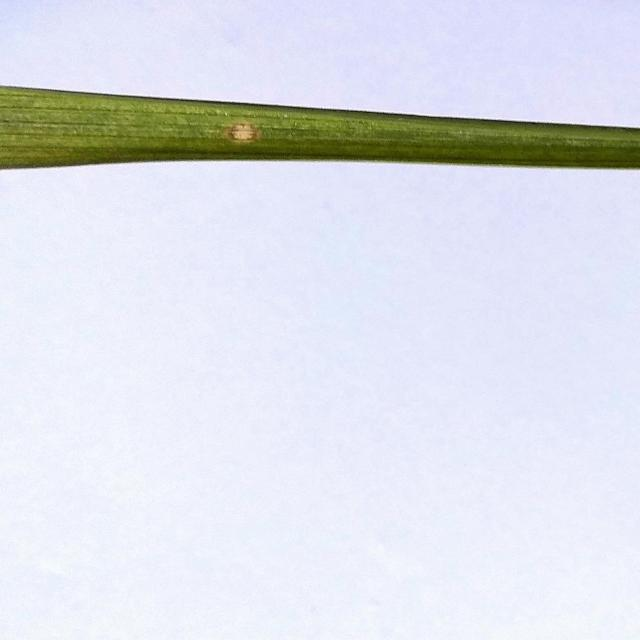Leaf_Blast: (221, 118, 263, 146)
